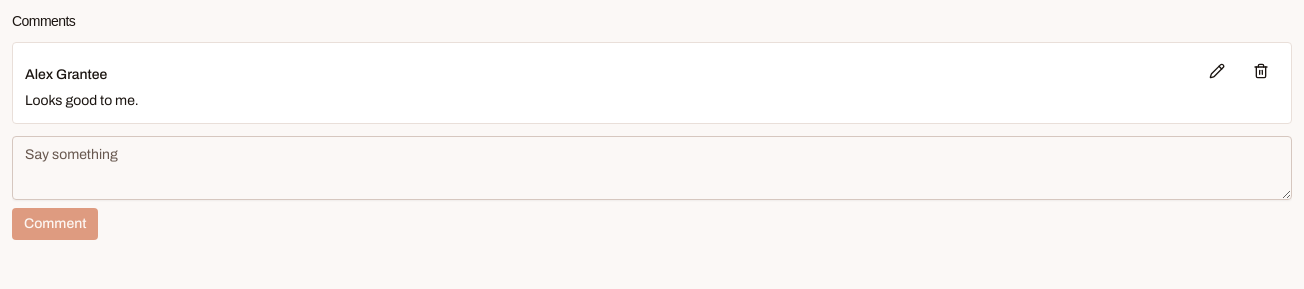
it: CommentThread › deleting a comment › renders an error when the delete fails
Expected: the text "Alex Grantee" is shown, [25,65,107,85]
Click the 2nd button named "remove this comment" at x=1261, y=71, box [1243,55,1279,87]
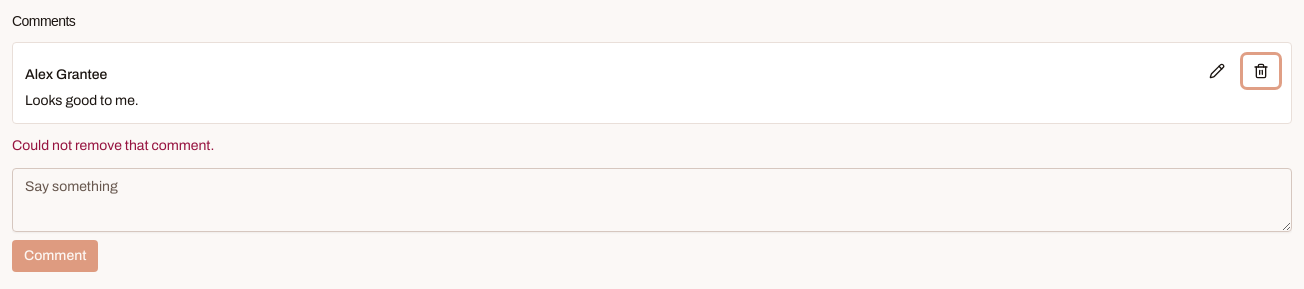
Now the message reads "Could not remove that comment.", box [12,138,214,153]
